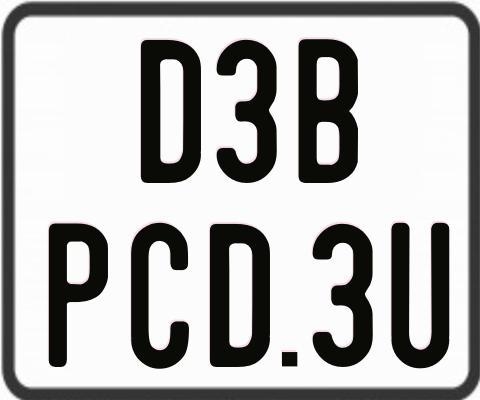3: (216, 38, 278, 185), (313, 222, 374, 370)
B: (296, 36, 360, 183)
C: (129, 221, 187, 369)
D: (209, 221, 274, 368), (138, 40, 200, 185)
P: (47, 222, 112, 371)
U: (391, 222, 451, 373)
